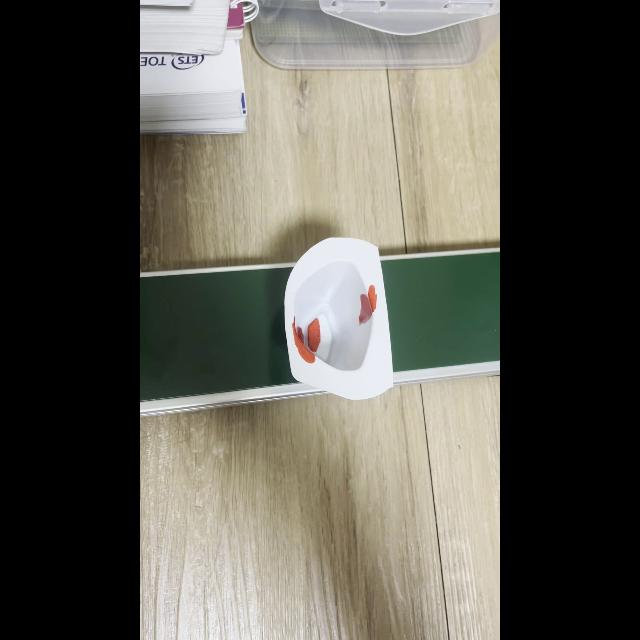dirty: (284, 236, 394, 398)
